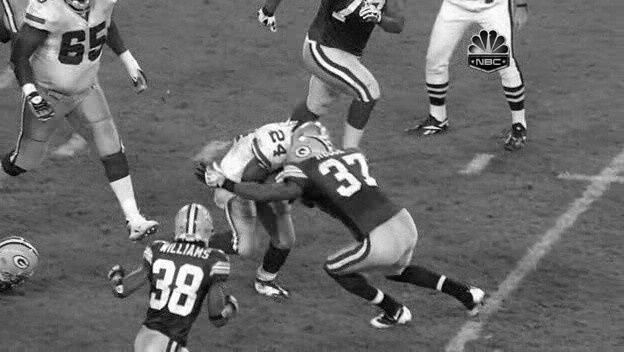person: (294, 121, 327, 163), (293, 121, 326, 163), (295, 121, 328, 163), (294, 120, 327, 162), (294, 122, 327, 164)
target_negative: (2, 217, 495, 302), (385, 84, 608, 269), (64, 291, 364, 351), (212, 287, 528, 292), (249, 55, 346, 62), (46, 228, 448, 229)
